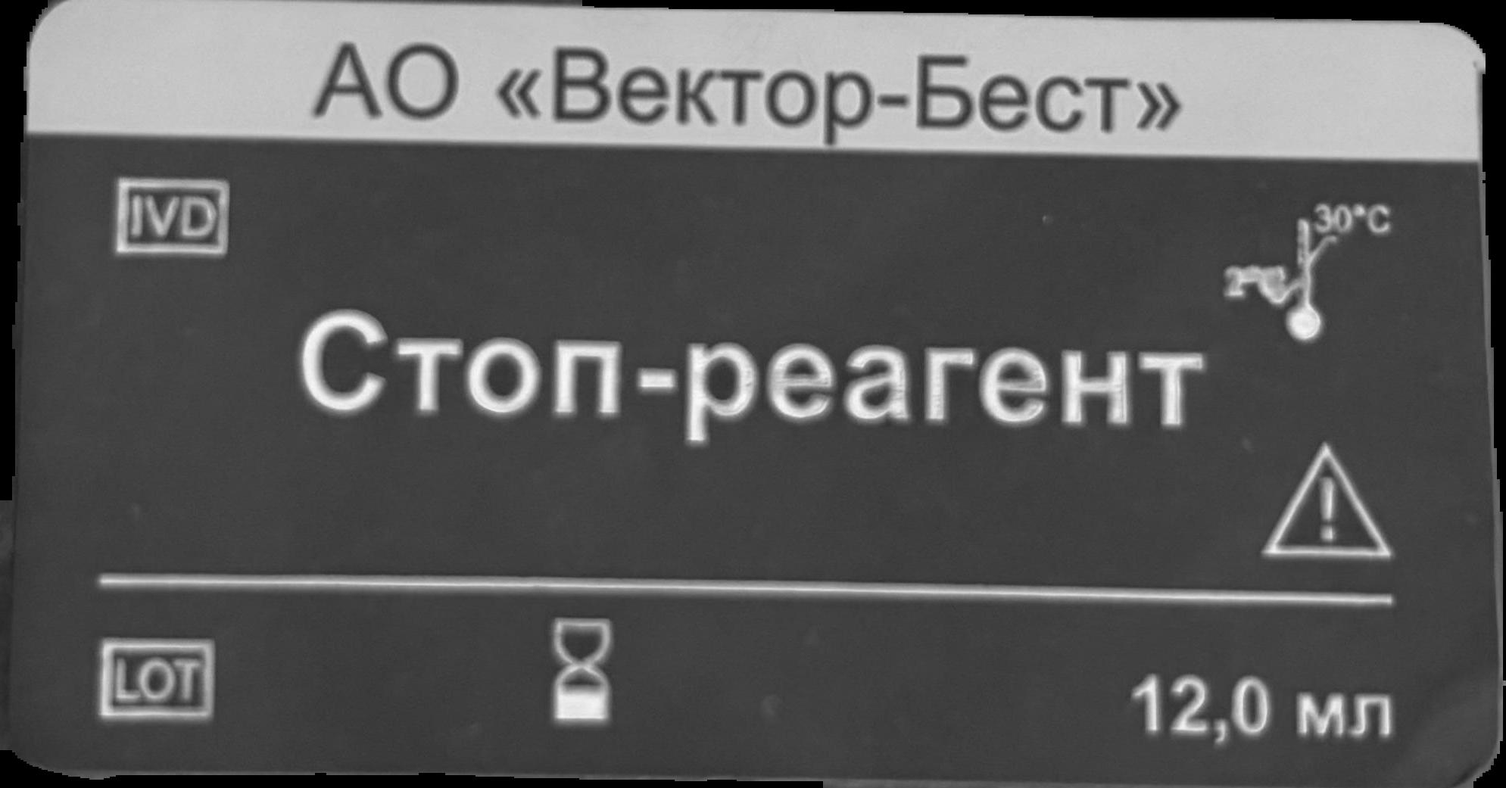something: (1218, 197, 1392, 347), (1258, 441, 1397, 564), (100, 635, 220, 728), (114, 176, 234, 265), (547, 615, 618, 733)
text: (300, 305, 1208, 445), (303, 38, 1184, 154), (1130, 671, 1396, 760)
